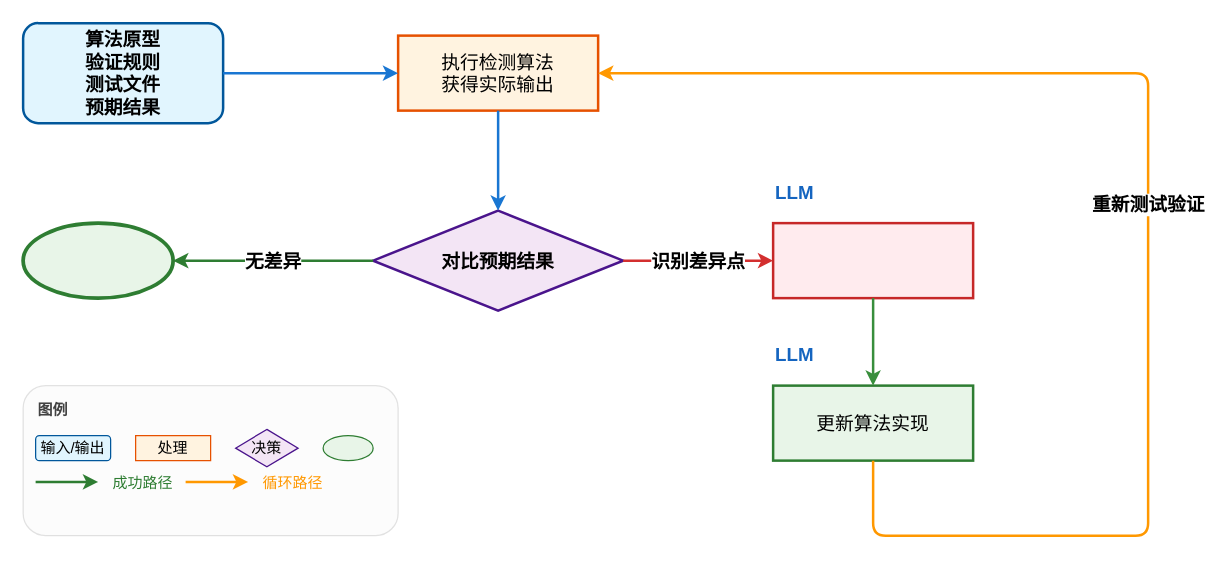
Some shapes in this 1226 by 568 pixel diagram are drawn without their labels. The centre of each missing label's shape, as x and y in pixels:
"优化完成" goes at (97,260).
"分析失败原因 生成改进建议" goes at (872,260).
"结束" goes at (347,447).
